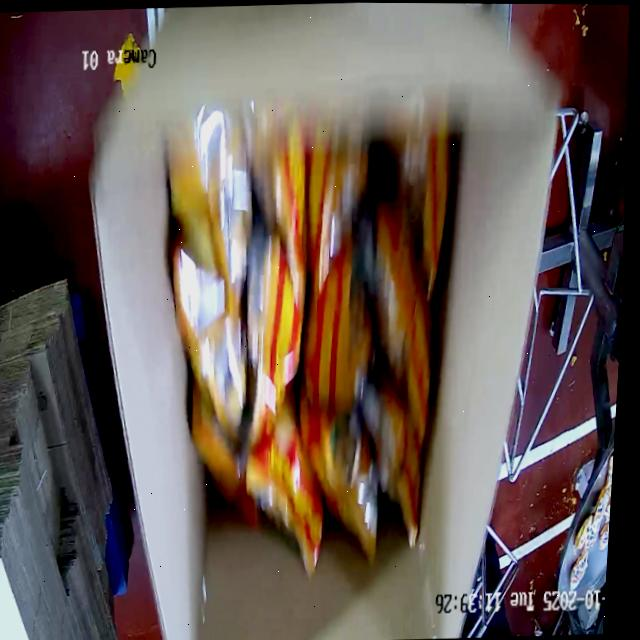FRENCH_CHEESE: (138, 105, 460, 558)
